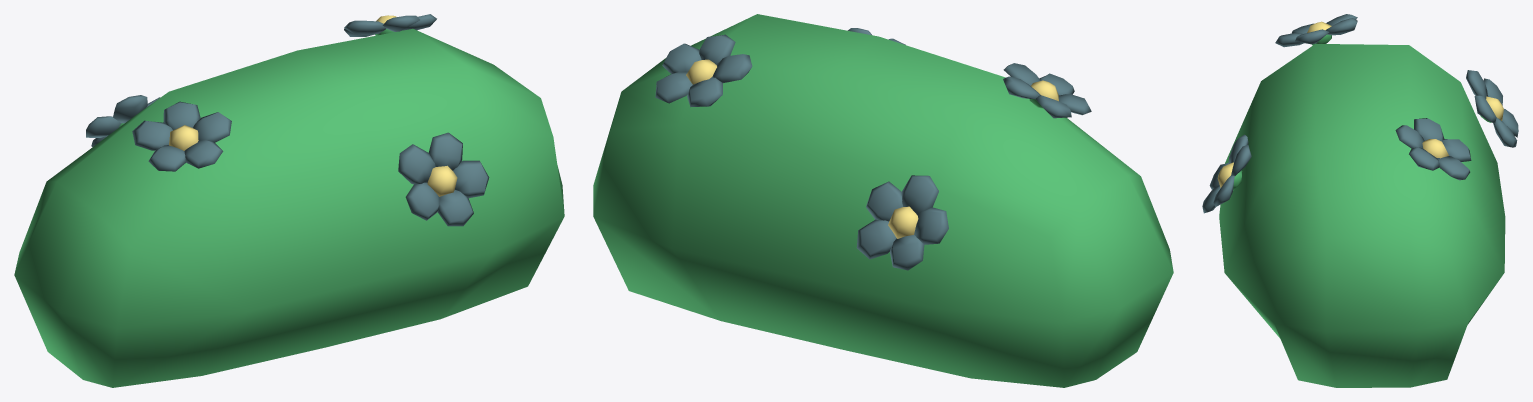
The model's file is FlowerBush_A_03_LOD2.gltf.
3 views of the same model, side by side, from view 1: azimuth 30°, elevation 25°; view 2: azimuth 150°, elevation 25°; view 3: azimuth 270°, elevation 25° (orthographic). The views are drawn at different scales.
Visible parts, largest first — view 1: FlowerBush_A_03_LOD2_Cube.722; view 2: FlowerBush_A_03_LOD2_Cube.722; view 3: FlowerBush_A_03_LOD2_Cube.722.
Part boxes in pixels (x1,y1,x2,y2): FlowerBush_A_03_LOD2_Cube.722: (14, 14, 564, 387); FlowerBush_A_03_LOD2_Cube.722: (593, 14, 1173, 387); FlowerBush_A_03_LOD2_Cube.722: (1202, 14, 1518, 387).
Bounding box in the file's own units: 8.39 × 3.99 × 4.99.
Materials: 1 (1 with a texture image).
